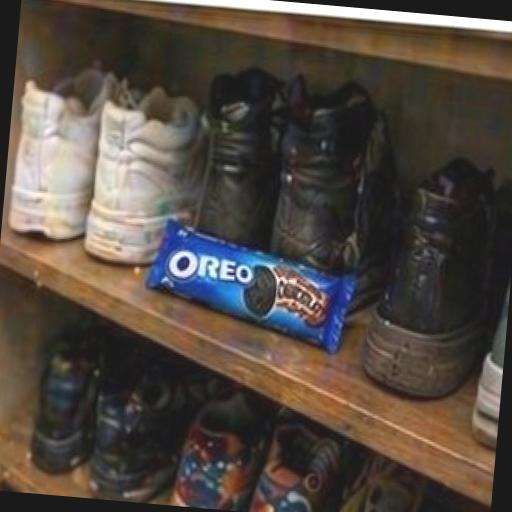oreo: (118, 156, 389, 406)
